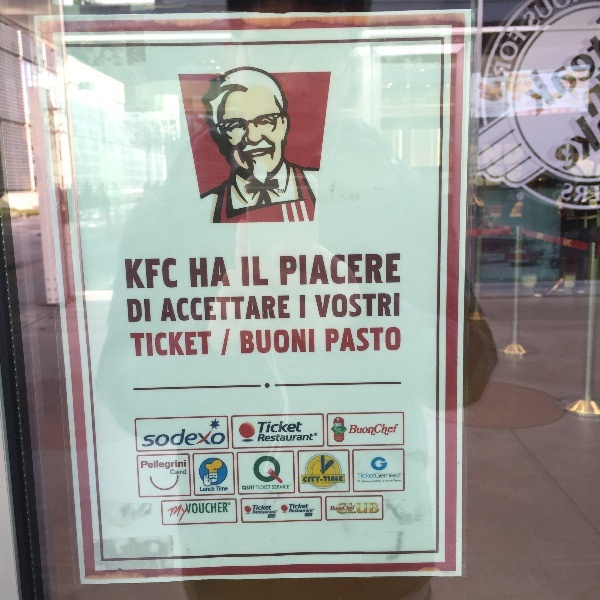text: (497, 1, 512, 81), (513, 1, 528, 81), (561, 95, 576, 173), (577, 95, 592, 173), (529, 72, 544, 119), (545, 72, 560, 119), (561, 72, 576, 119), (577, 72, 592, 119), (553, 95, 560, 173), (593, 95, 600, 173), (385, 254, 401, 286), (289, 254, 304, 286), (305, 254, 320, 286), (321, 254, 336, 286), (337, 254, 352, 286), (353, 254, 368, 286), (369, 254, 384, 286), (129, 259, 144, 289), (145, 259, 160, 289), (161, 259, 176, 289), (193, 257, 208, 287), (209, 257, 224, 287), (241, 257, 256, 287), (385, 326, 401, 352), (177, 296, 192, 323), (193, 296, 208, 323), (209, 296, 224, 323), (225, 296, 240, 323), (241, 296, 256, 323), (257, 296, 272, 323), (273, 296, 288, 323), (145, 331, 160, 358), (161, 331, 176, 358), (177, 331, 192, 358), (193, 331, 208, 358), (529, 1, 534, 81), (241, 329, 256, 355), (257, 329, 272, 355), (273, 329, 288, 355), (289, 329, 304, 355), (337, 326, 352, 352), (353, 326, 368, 352), (369, 326, 384, 352), (130, 331, 144, 358), (129, 298, 144, 323), (321, 293, 336, 318), (337, 293, 352, 318), (353, 293, 368, 318), (369, 293, 384, 318), (385, 293, 400, 318), (226, 329, 240, 355), (577, 181, 592, 205), (257, 257, 268, 287), (593, 72, 600, 119), (164, 296, 176, 323), (177, 500, 189, 524), (564, 181, 576, 205), (145, 428, 160, 446), (161, 428, 176, 446), (177, 428, 192, 446), (193, 428, 208, 446), (209, 428, 224, 446), (165, 500, 176, 524), (305, 329, 315, 355), (326, 326, 336, 352), (280, 254, 288, 286), (493, 1, 496, 81), (523, 72, 528, 119), (353, 424, 368, 437), (369, 424, 384, 437), (337, 502, 352, 515), (353, 502, 368, 515), (385, 424, 399, 437), (145, 460, 160, 472), (161, 460, 176, 472), (593, 181, 600, 205), (273, 422, 288, 433), (193, 503, 208, 514), (209, 503, 224, 514), (258, 422, 272, 433), (289, 422, 303, 433), (225, 257, 230, 287), (145, 298, 151, 323), (369, 502, 379, 515), (315, 293, 320, 318), (273, 434, 288, 442), (289, 434, 304, 442), (177, 460, 186, 472), (305, 476, 320, 483), (321, 476, 336, 483), (337, 506, 352, 513), (300, 295, 304, 319), (260, 434, 272, 442), (125, 259, 128, 289), (189, 257, 192, 287), (385, 473, 401, 478), (185, 503, 192, 514), (273, 485, 288, 490), (369, 473, 384, 478), (257, 506, 272, 511), (289, 504, 304, 509), (305, 434, 314, 442), (177, 469, 187, 476), (242, 486, 256, 491), (385, 479, 401, 483), (257, 510, 272, 514), (369, 479, 384, 483), (290, 509, 304, 513), (357, 473, 368, 478), (209, 331, 211, 358), (170, 469, 176, 476), (257, 486, 271, 489), (337, 476, 343, 483), (358, 479, 368, 483), (225, 428, 227, 446), (141, 460, 144, 472), (305, 509, 314, 513), (201, 487, 208, 492), (331, 506, 336, 513), (225, 503, 228, 514), (216, 487, 224, 491), (177, 259, 178, 289), (209, 487, 215, 492), (289, 296, 290, 323), (350, 424, 352, 437), (127, 298, 128, 323), (305, 295, 306, 319), (229, 503, 240, 505), (353, 506, 356, 513), (252, 506, 256, 511), (305, 504, 309, 509), (273, 510, 277, 514), (290, 485, 304, 486), (225, 487, 228, 491), (253, 510, 256, 514), (277, 510, 288, 511), (315, 434, 320, 436), (303, 476, 304, 483), (289, 485, 290, 490)
